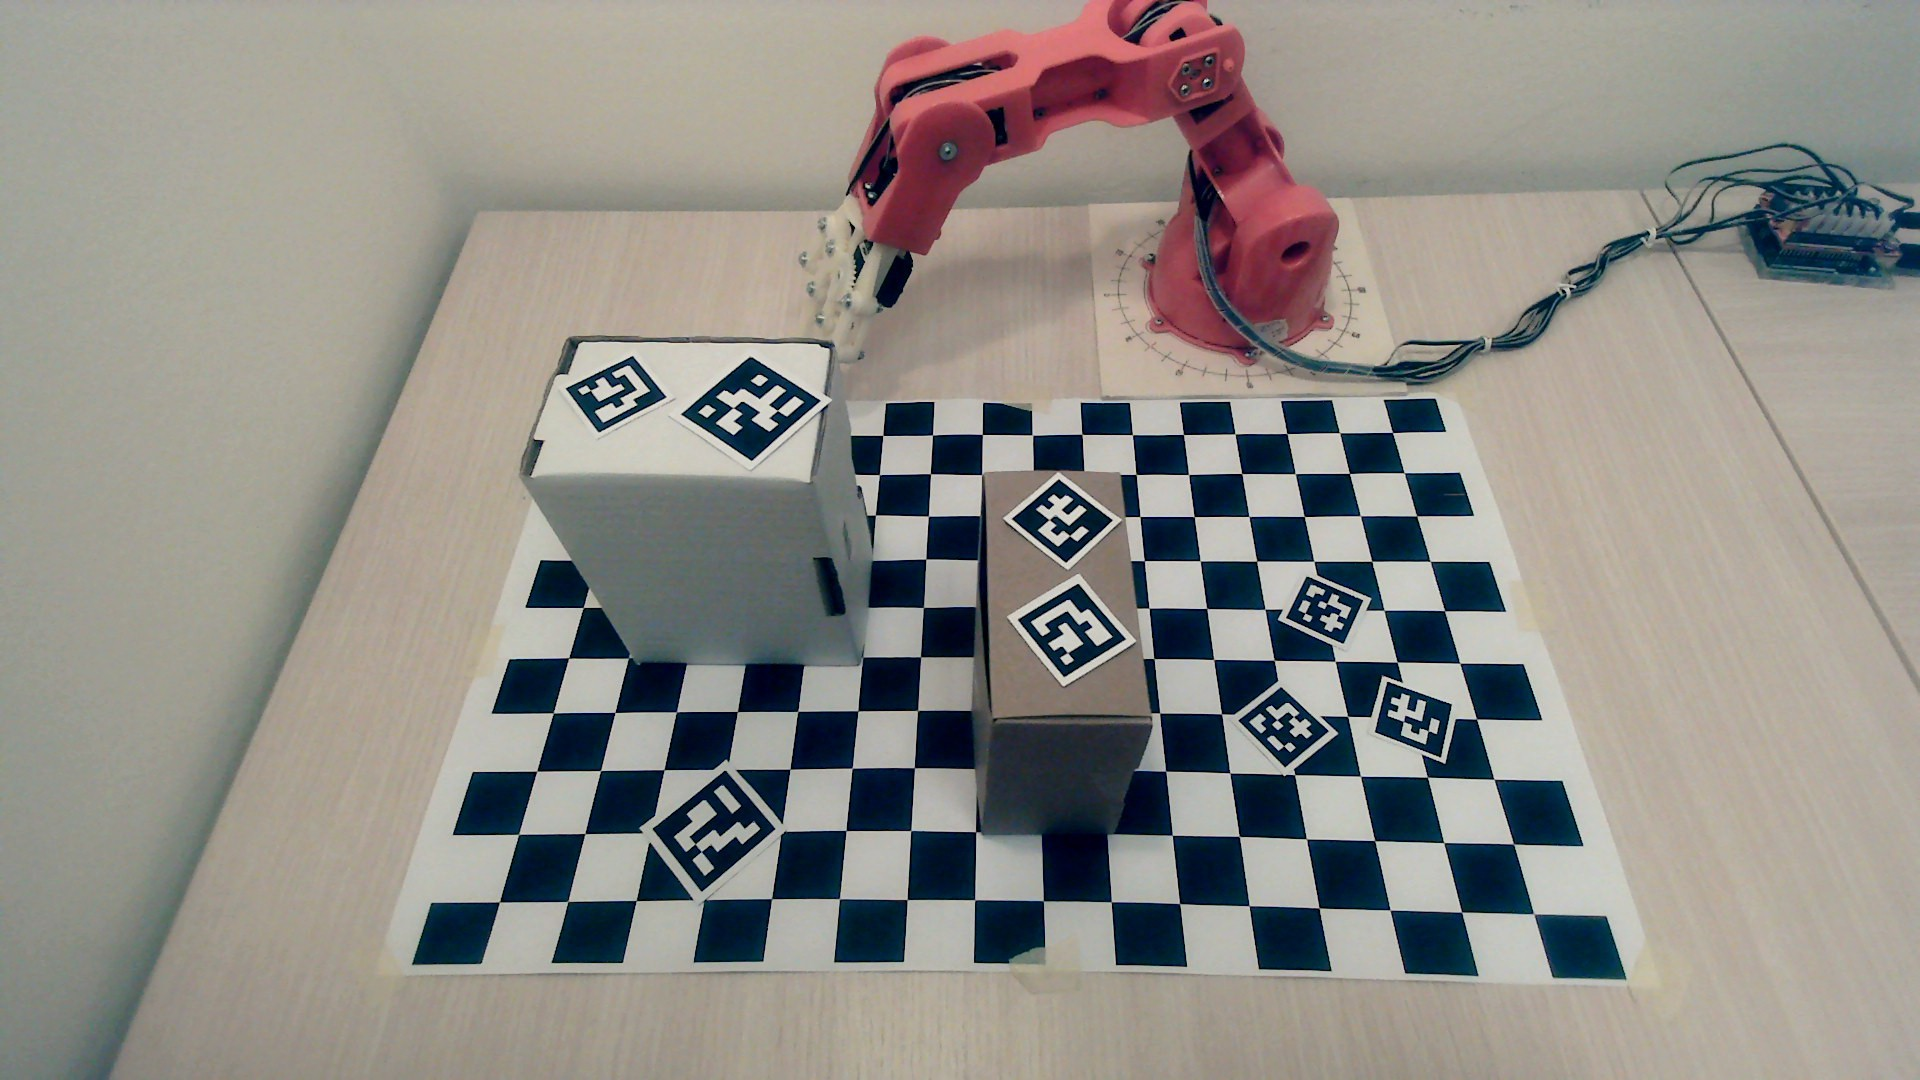marker: (651, 767, 781, 897), (679, 355, 824, 465), (1015, 582, 1131, 680), (1009, 477, 1113, 567), (563, 353, 663, 434), (1238, 684, 1332, 767), (1371, 676, 1457, 762), (1282, 575, 1364, 647)
